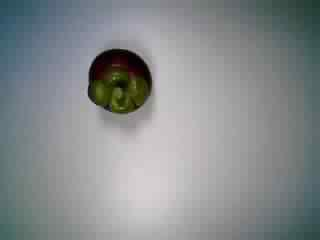mangosteen: (72, 43, 155, 118)
